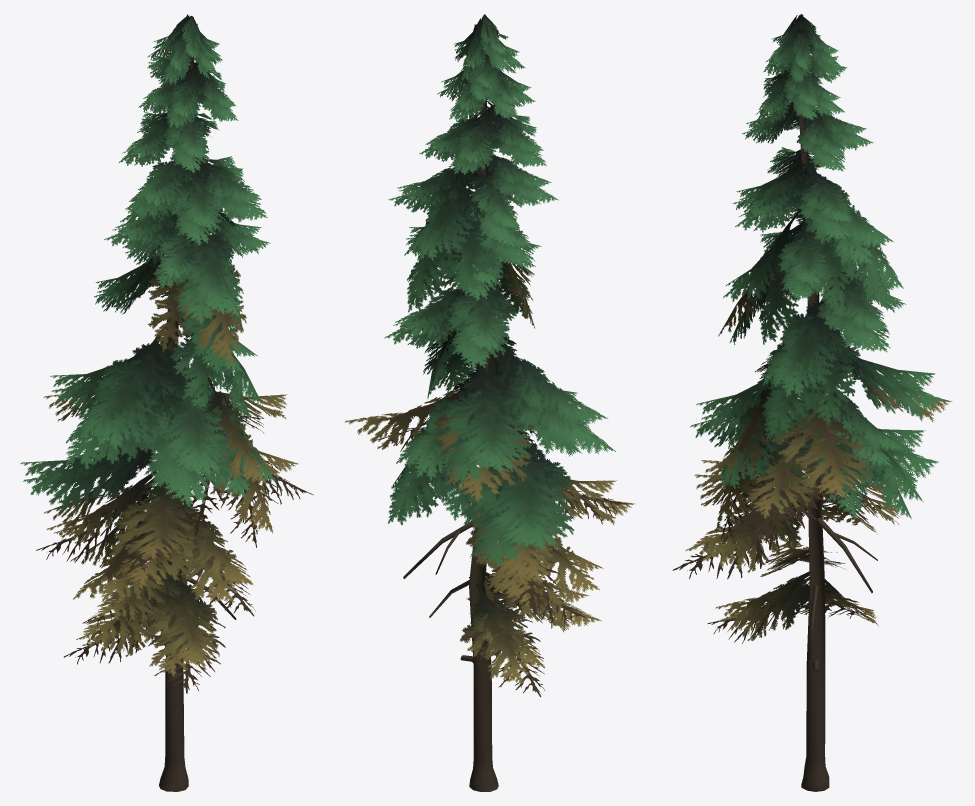
File: Fir_Bl+Ñ.L.B.XY1.fbx
3 views of the same model, side by side, from view 1: azimuth 30°, elevation 25°; view 2: azimuth 150°, elevation 25°; view 3: azimuth 270°, elevation 25° (orthographic).
Parts seen in each view (by area): view 1: Fir_Blå_L_B_XY1; view 2: Fir_Blå_L_B_XY1; view 3: Fir_Blå_L_B_XY1.
Part boxes in pixels (x1,y1,x2,y2): Fir_Blå_L_B_XY1: (20, 14, 313, 791); Fir_Blå_L_B_XY1: (344, 14, 635, 791); Fir_Blå_L_B_XY1: (673, 14, 952, 791).
Size of the model in its own units: 538 by 1558 by 527.
